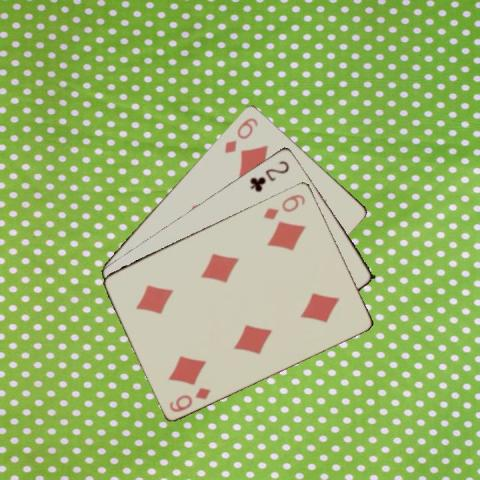2c: (246, 157, 290, 193)
6d: (222, 114, 260, 155), (260, 190, 307, 220), (166, 384, 213, 413)
